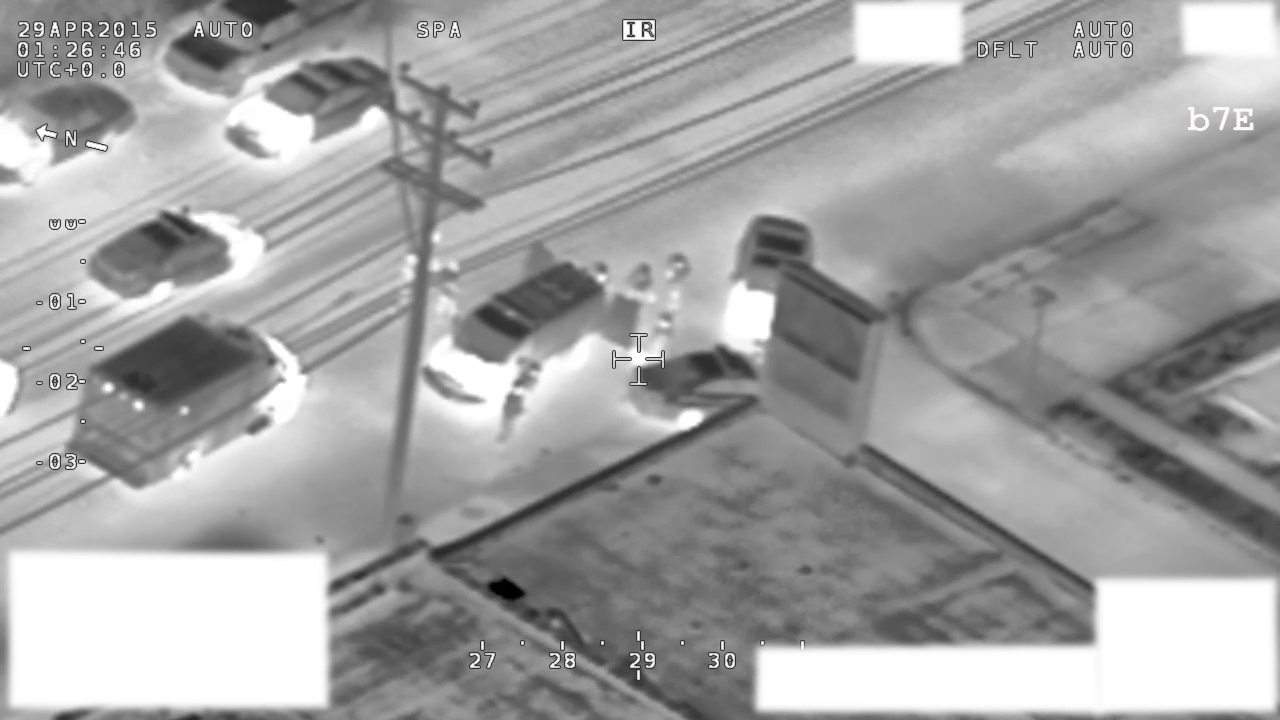vehicle: (66, 310, 311, 492), (419, 230, 649, 410), (165, 1, 371, 103), (221, 52, 394, 170), (84, 201, 272, 309), (1, 71, 143, 198), (729, 213, 817, 347), (632, 341, 768, 425)
